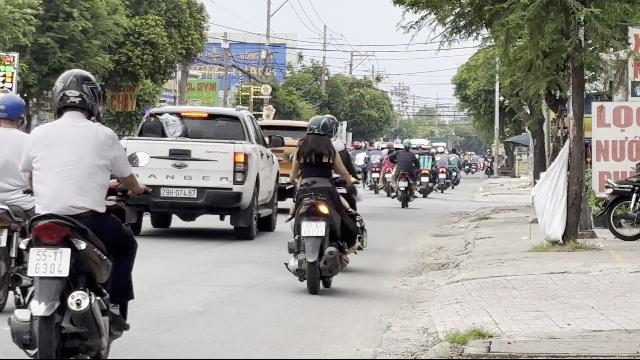helmet: (49, 68, 102, 120), (306, 114, 328, 136)
licenseplate: (28, 248, 70, 276), (301, 221, 325, 237)
motorcyclist: (11, 66, 148, 358), (281, 112, 365, 292)
